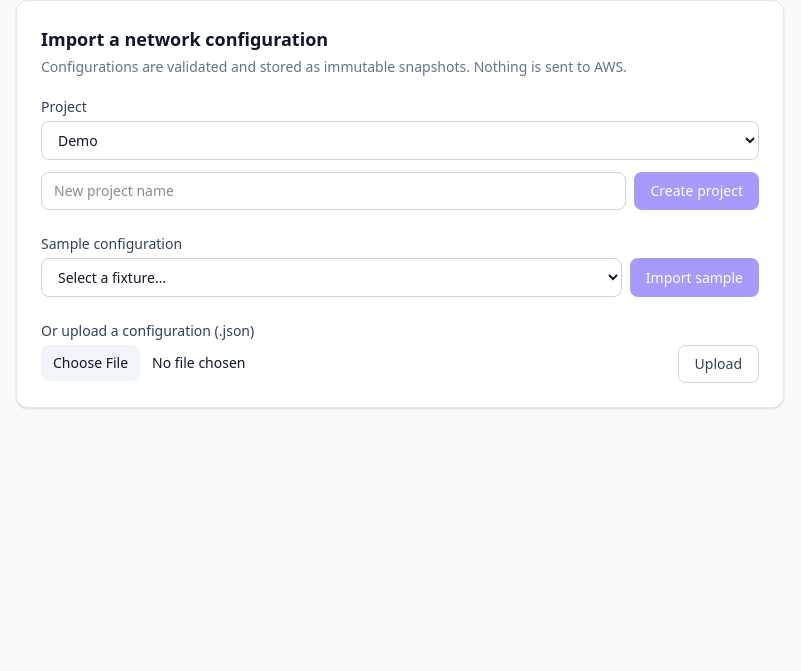
ImportPage › imports a sample fixture and shows the validated inventory counts
This screenshot has width=801, height=671.
Select "Exposed database rules" in the dropdown labelled "Sample configuration": (331, 278) [41, 258, 622, 297]
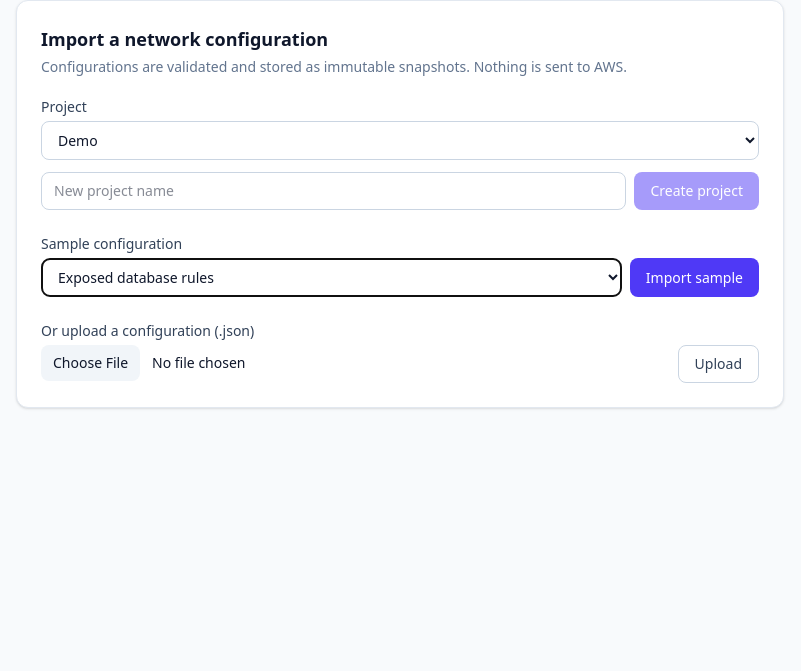
Click the button "Import sample": (694, 278) [630, 258, 759, 297]
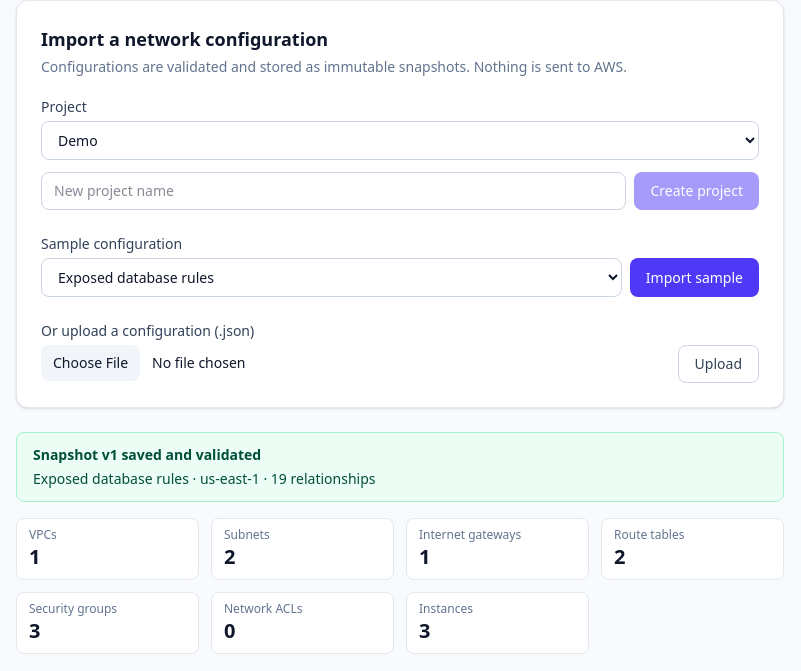
Expected: the text "Snapshot v1 saved and validated" is shown, [33, 445, 261, 464]
Expected: the text with test id "count-security_group" reads "3", [29, 617, 40, 644]
Expected: the text with test id "count-instance" reads "3", [419, 617, 430, 644]
